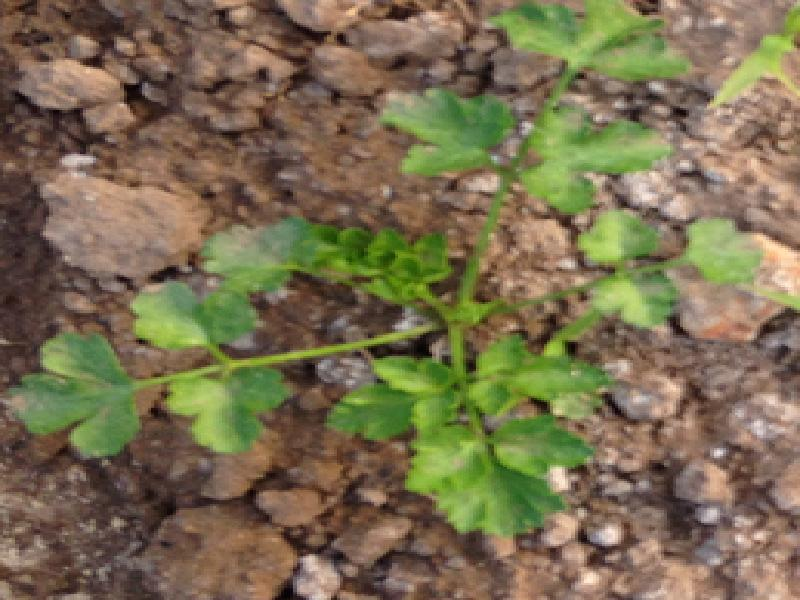radish: (46, 147, 707, 562)
